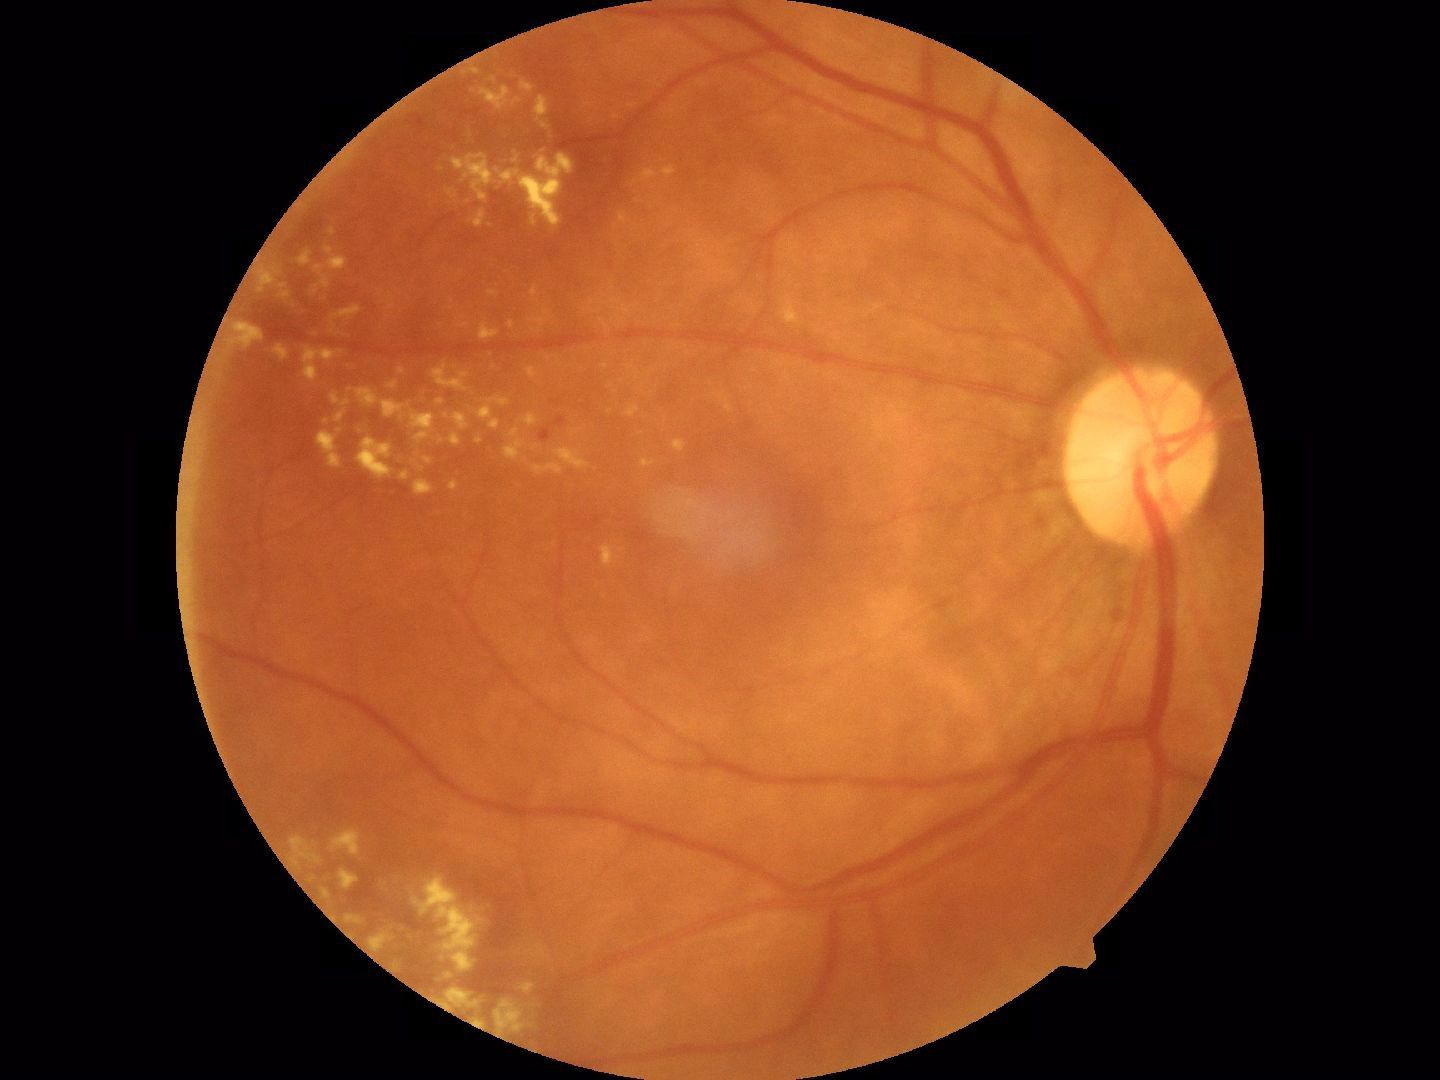Exudates: (371, 818, 590, 956), (317, 366, 531, 489), (458, 51, 564, 217)
Optic-Disc: (1060, 341, 1209, 559)
